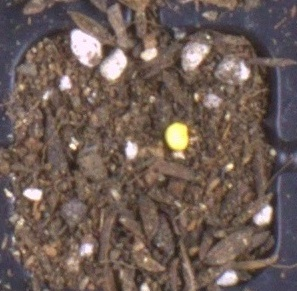chilli seed: (164, 121, 189, 150)
